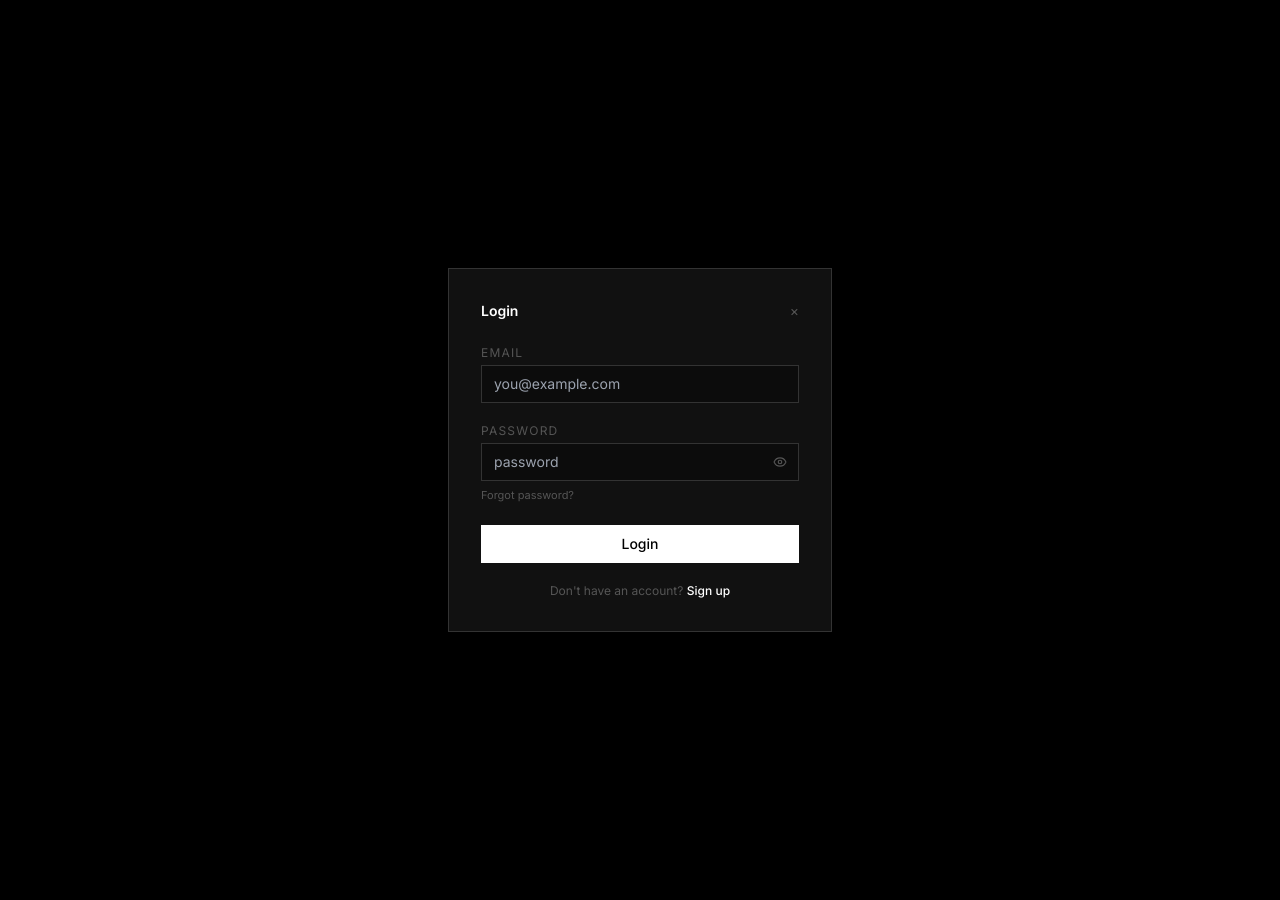
Test: AuthModal › explains cold-start 502 instead of the generic message
Type "user@example.com" into the field with placeholder "you@example.com" at [640, 384], box [481,365,799,403]
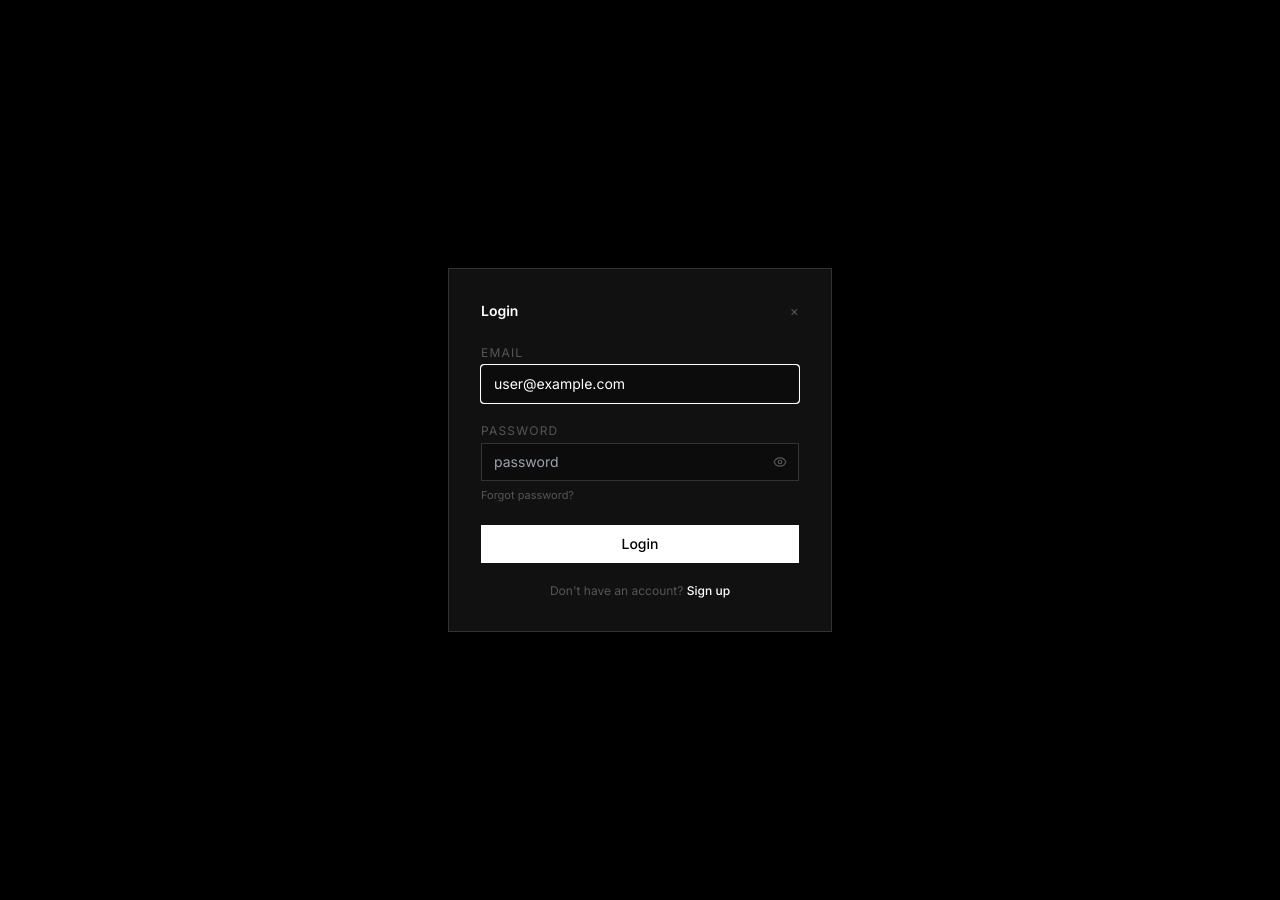
Type "correctpass1" into the password field with placeholder "password" at [640, 462], box [481,443,799,481]
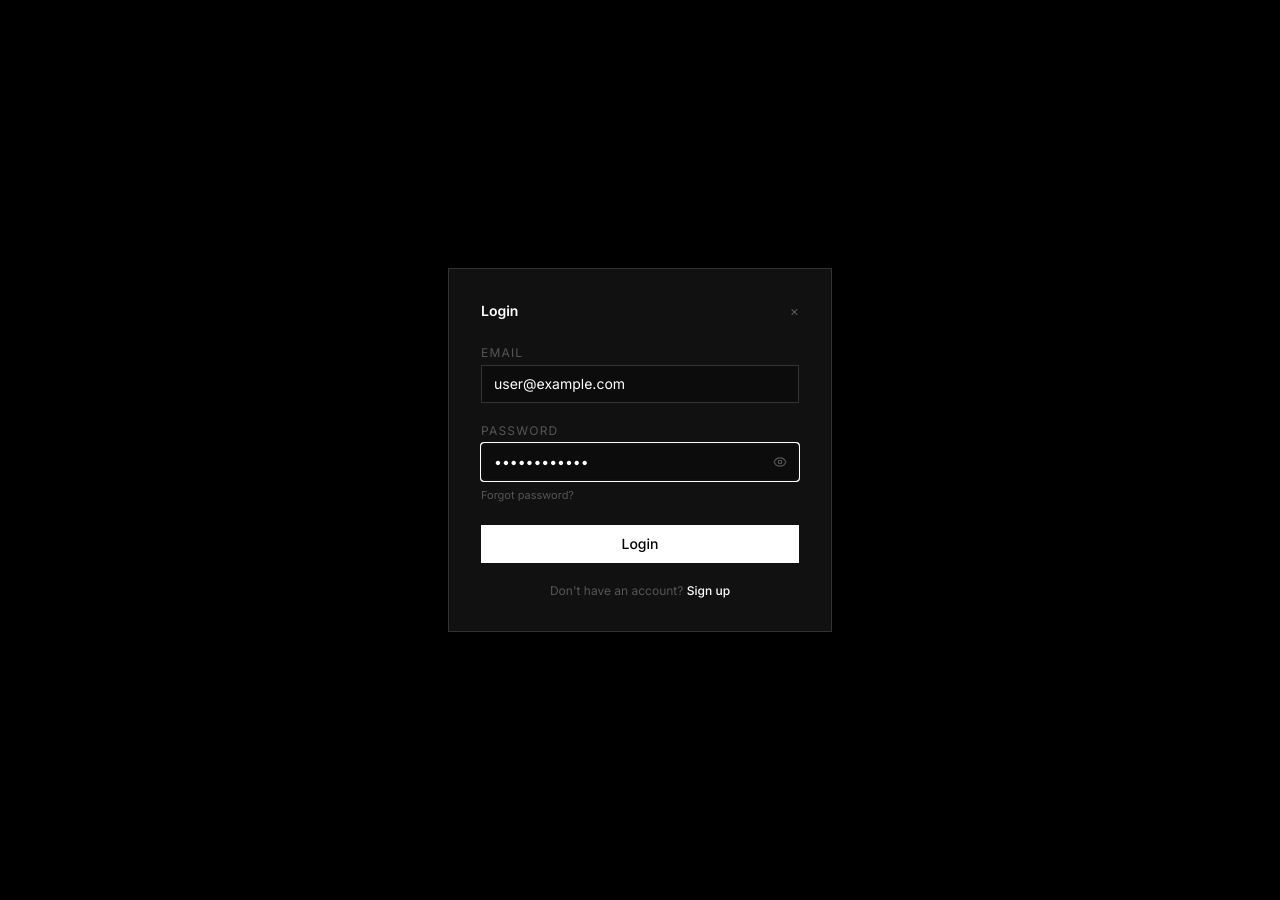
Click the button "Login" at [640, 544], box [481,525,799,563]
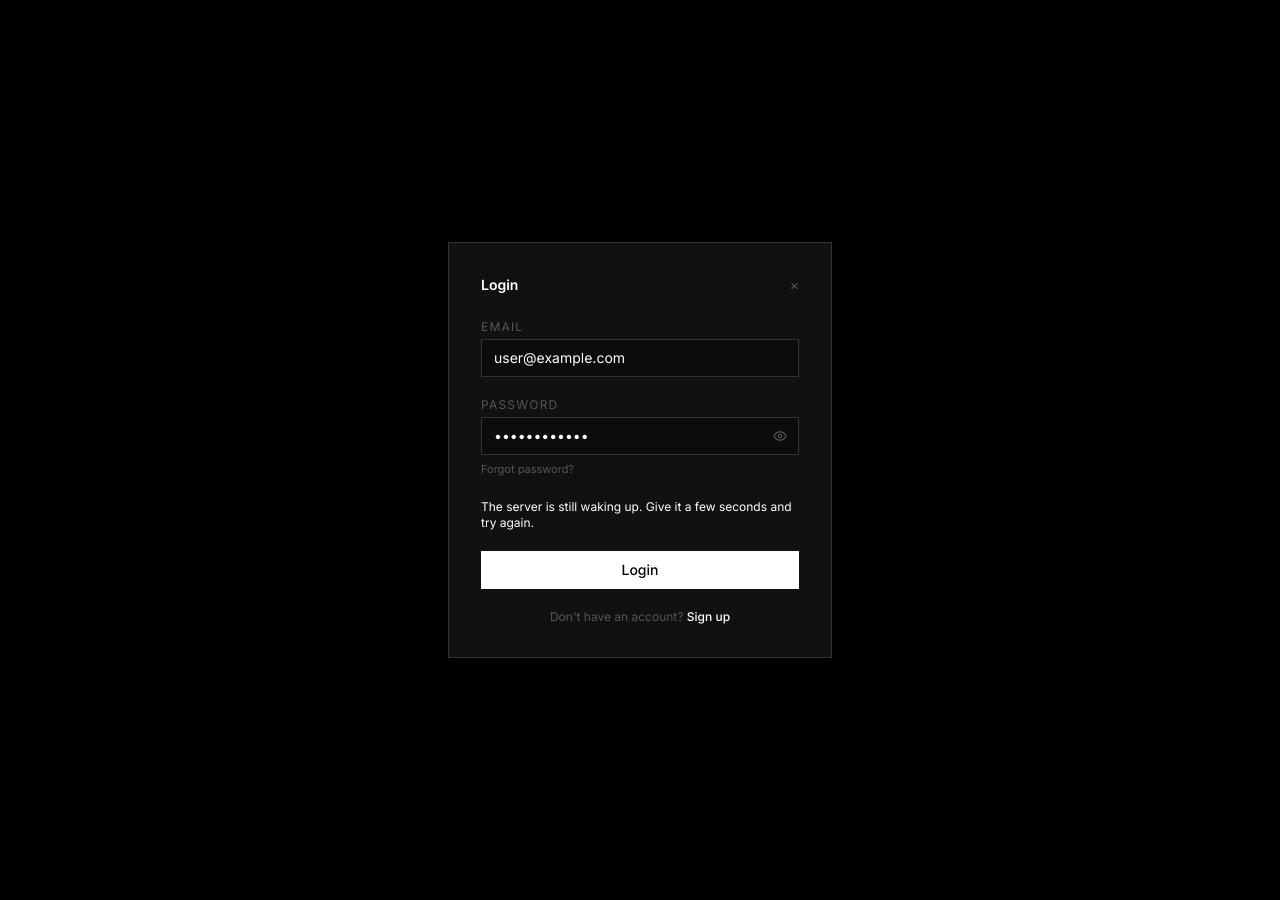
Now the text "The server is still waking up. Give it a few seconds and try again." is shown, box [481,499,799,531]
